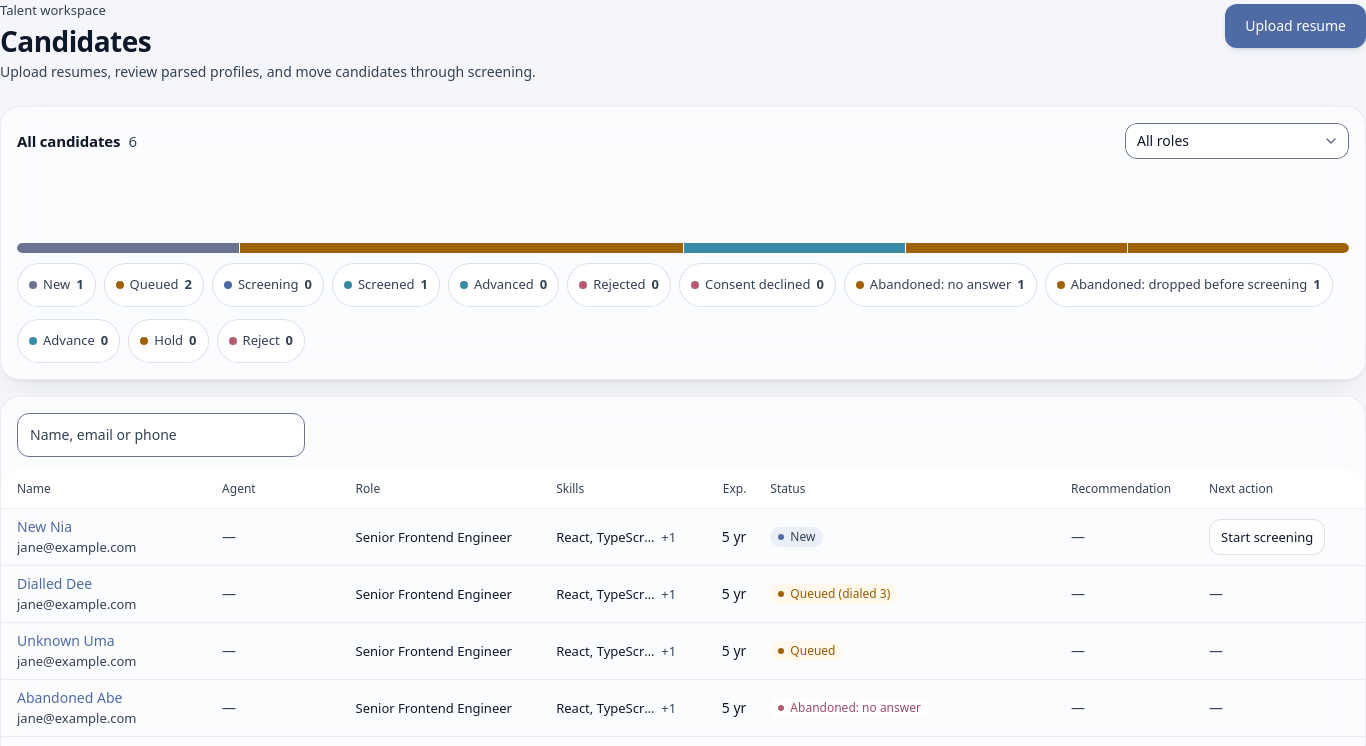
Test: CandidatesPage phone status › M013 S02: names a dropped-before-screening cycle, never "Screening", with its own filter
This screenshot has width=1366, height=746.
Expected: the 4th text "1" is shown, [1313,275,1321,295]
Expected: the 1st text "0" is shown, [304,275,312,295]
What coordinates should you click on to do the following:
click the button "Abandoned: dropped before screening 1"
I would click on:
 (1189, 285)
Its box is [1045,263,1333,307].
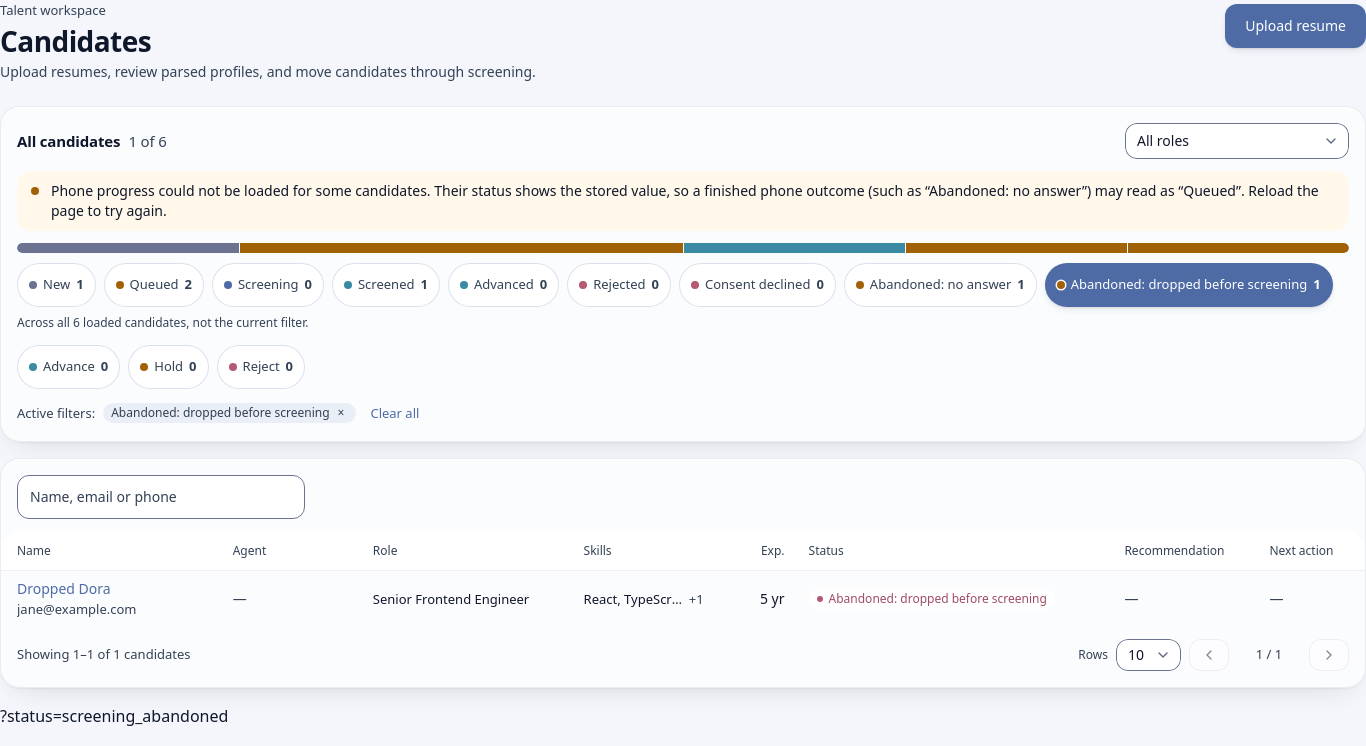
Expected: the text with test id "location" reads "?status=screening_abandoned", [0,705,228,727]
